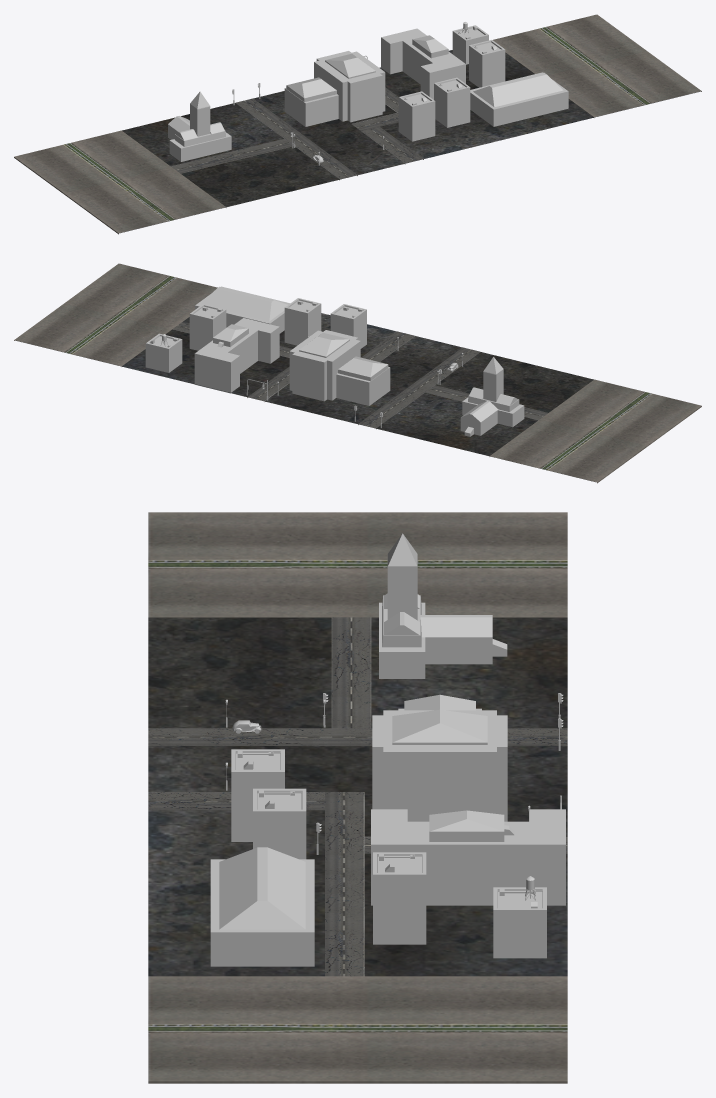
File: Block_13.fbx
3 renders of one model, top to bottom at view 1: azimuth 30°, elevation 25°; view 2: azimuth 150°, elevation 25°; view 3: azimuth 270°, elevation 25°, orthographic. The views are drawn at different scales.
Parts seen in each view (by area): view 1: pasted__polySurface1337; view 2: pasted__polySurface1337; view 3: pasted__polySurface1337.
Part boxes in pixels (bbox=[...]): pasted__polySurface1337: bbox=[14, 14, 701, 234]; pasted__polySurface1337: bbox=[14, 263, 701, 483]; pasted__polySurface1337: bbox=[148, 512, 567, 1083].
Size of the model in its own units: 459 by 143 by 47.54.
